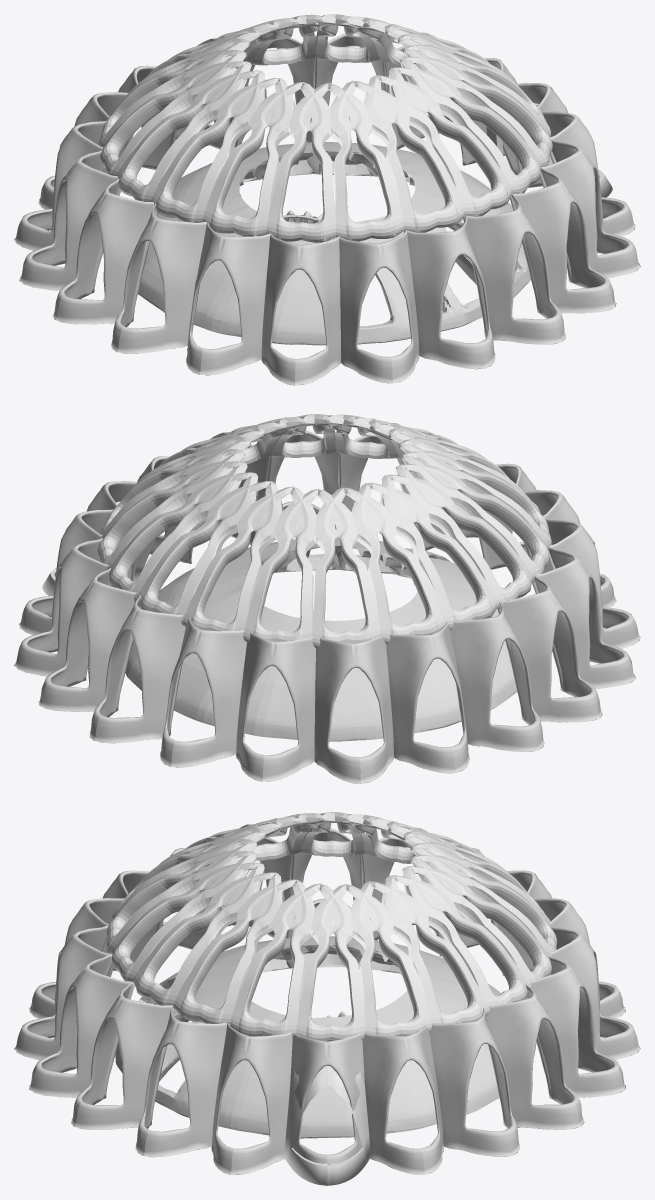
The model's file is play_version.fbx.
The picture shows the model from 3 angles, top to bottom: view 1: azimuth 30°, elevation 25°; view 2: azimuth 150°, elevation 25°; view 3: azimuth 270°, elevation 25°; orthographic projection.
Visible parts, largest first — view 1: wall2, part, whole, wall; view 2: wall2, part, whole, wall; view 3: wall2, part, whole, wall.
Part boxes in pixels (x1,y1,x2,y2): wall2: (14, 33, 640, 385); part: (99, 14, 552, 242); whole: (138, 142, 530, 345); wall: (502, 102, 612, 197); wall2: (14, 430, 640, 783); part: (97, 414, 551, 648); whole: (125, 538, 517, 741); wall: (42, 501, 155, 595); wall2: (14, 828, 640, 1174); part: (106, 812, 557, 1041); whole: (115, 936, 501, 1138); wall: (284, 1065, 370, 1185).
Size of the model in its own units: 16525 by 5878 by 16234.
